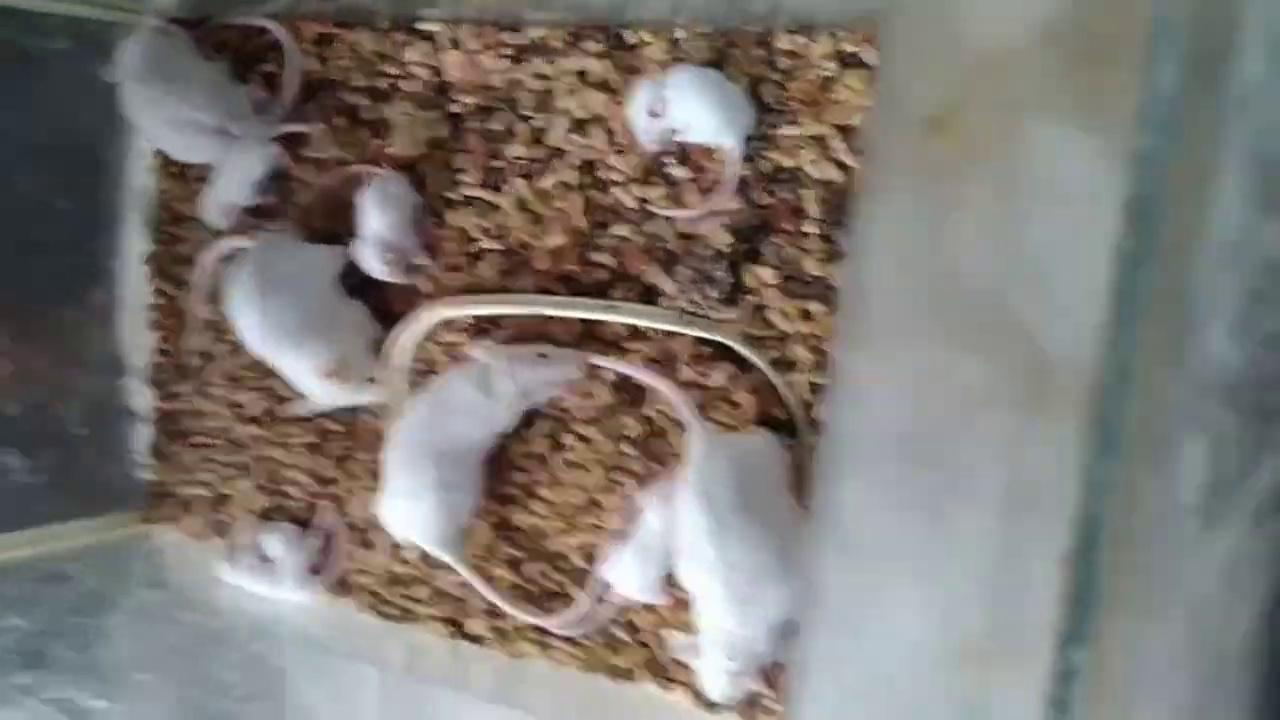rat: (588, 351, 812, 707), (371, 335, 587, 628), (187, 233, 406, 401), (98, 16, 301, 165), (621, 60, 759, 220), (328, 164, 430, 284), (204, 142, 285, 227)
